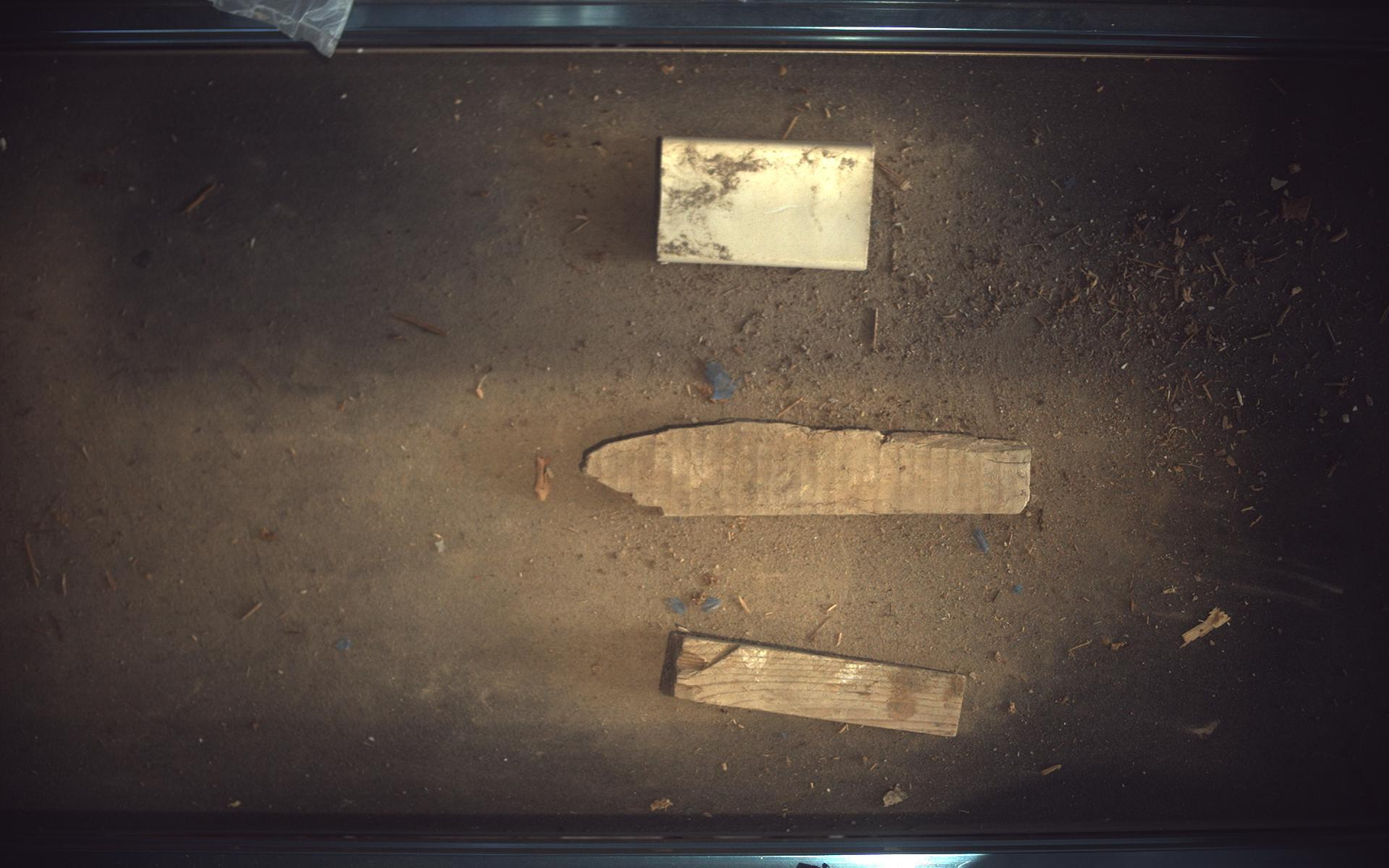wood: (584, 421, 1034, 517), (661, 631, 969, 738), (658, 136, 876, 270)
